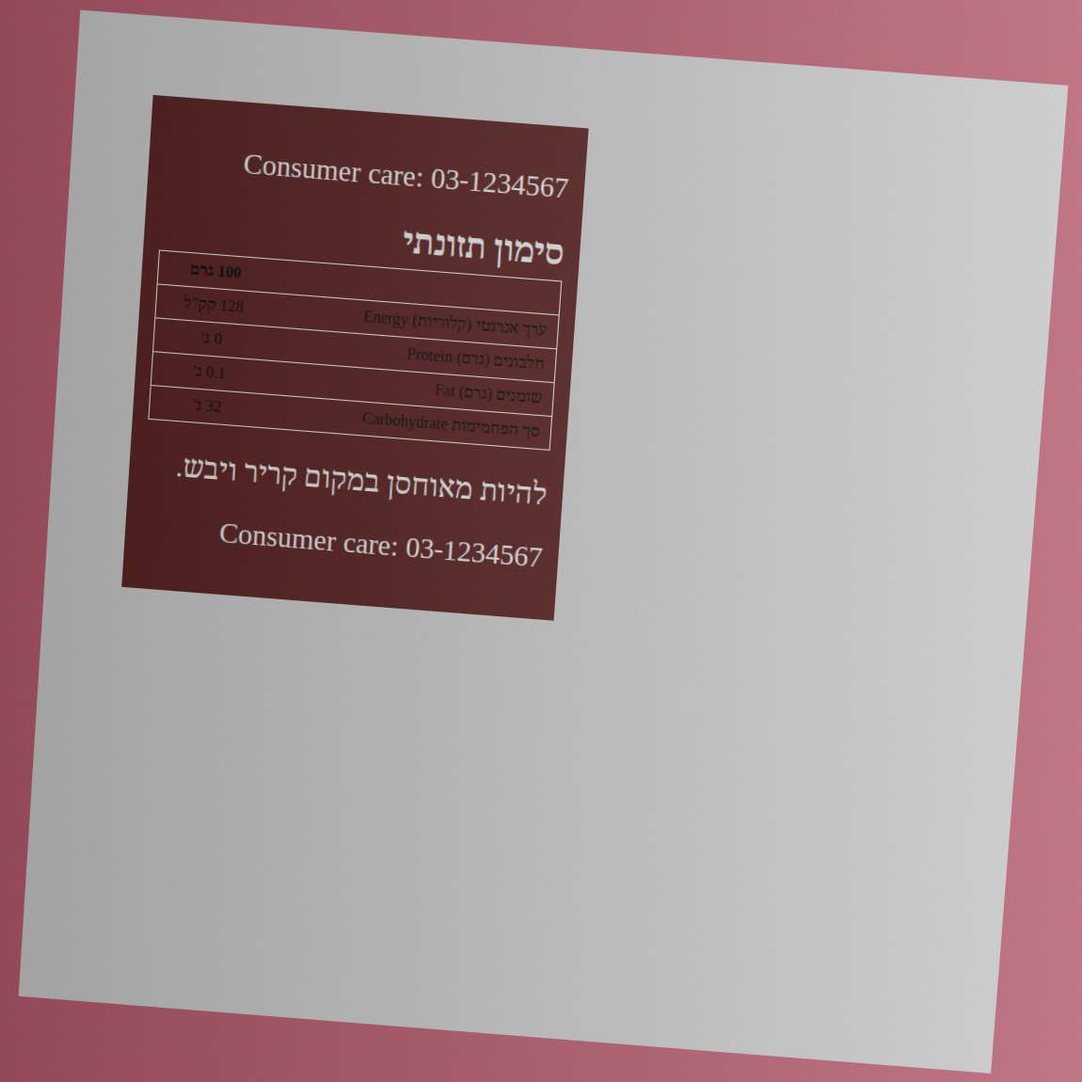carbs: (190, 394, 224, 420)
energy: (180, 291, 247, 320)
fat: (190, 360, 229, 386)
protein: (198, 327, 225, 352)
